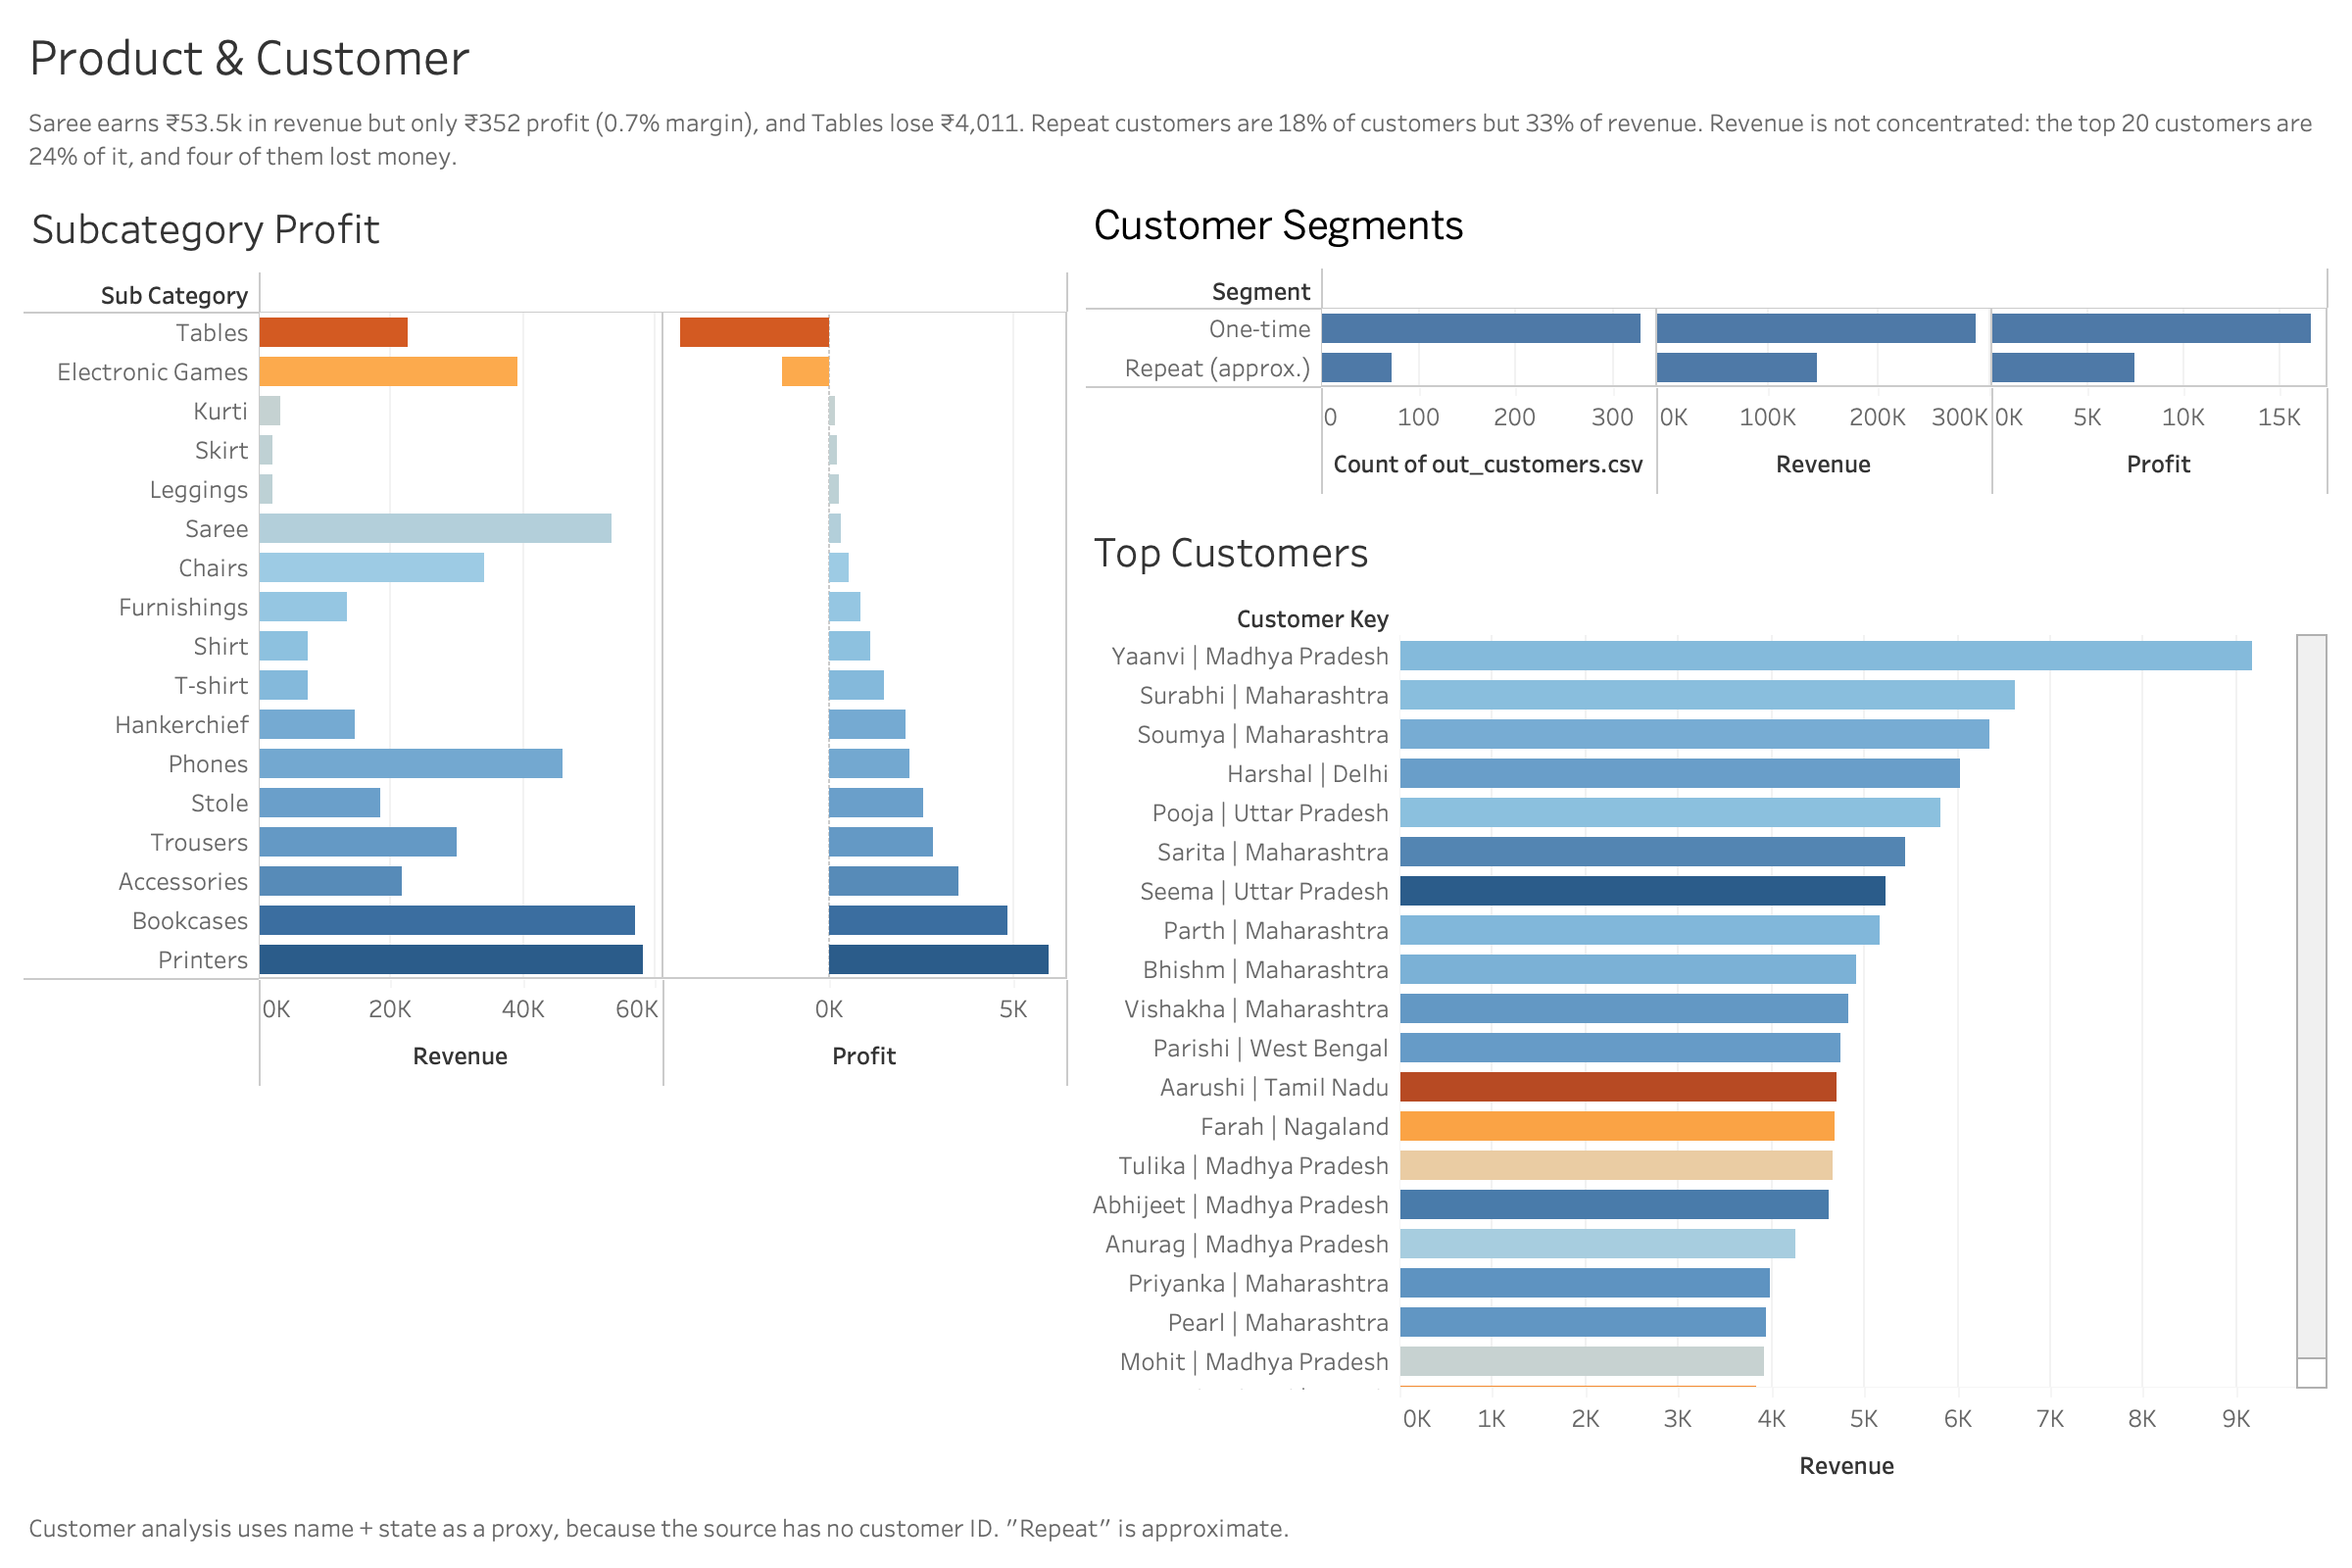

Layout of this report page (visuals, bound fields, positions):
{"tool":"tableau","page":{"name":"Product & Customer","canvas":[1200,800],"ordinal":1},"visuals":[{"type":"title","box":[8,8,1184,42]},{"type":"text","box":[8,50,1184,42]},{"type":"worksheet","title":"Subcategory Profit","mark":"Automatic","rows":["sub_category"],"cols":["revenue","profit"],"box":[8,92,542,675]},{"type":"worksheet","title":"Customer Segments","mark":"Automatic","rows":["segment"],"cols":["out_customers.csv_D26EDC0AF7A34EFDB4ECA1557E43821F","revenue","profit"],"box":[550,92,642,165]},{"type":"worksheet","title":"Top Customers","mark":"Automatic","rows":["customer_key"],"cols":["revenue"],"box":[550,257,642,510]},{"type":"text","box":[8,767,1184,25]}]}

Visuals, with their boxes in screenshot pixels (x1, y1, x2, y2), scaled from the page's 1200x800 canvas onto the 2352x1568 screenshot:
title: [x1=16, y1=16, x2=2336, y2=98]
text: [x1=16, y1=98, x2=2336, y2=180]
"Subcategory Profit" worksheet: [x1=16, y1=180, x2=1078, y2=1503]
"Customer Segments" worksheet: [x1=1078, y1=180, x2=2336, y2=504]
"Top Customers" worksheet: [x1=1078, y1=504, x2=2336, y2=1503]
text: [x1=16, y1=1503, x2=2336, y2=1552]
